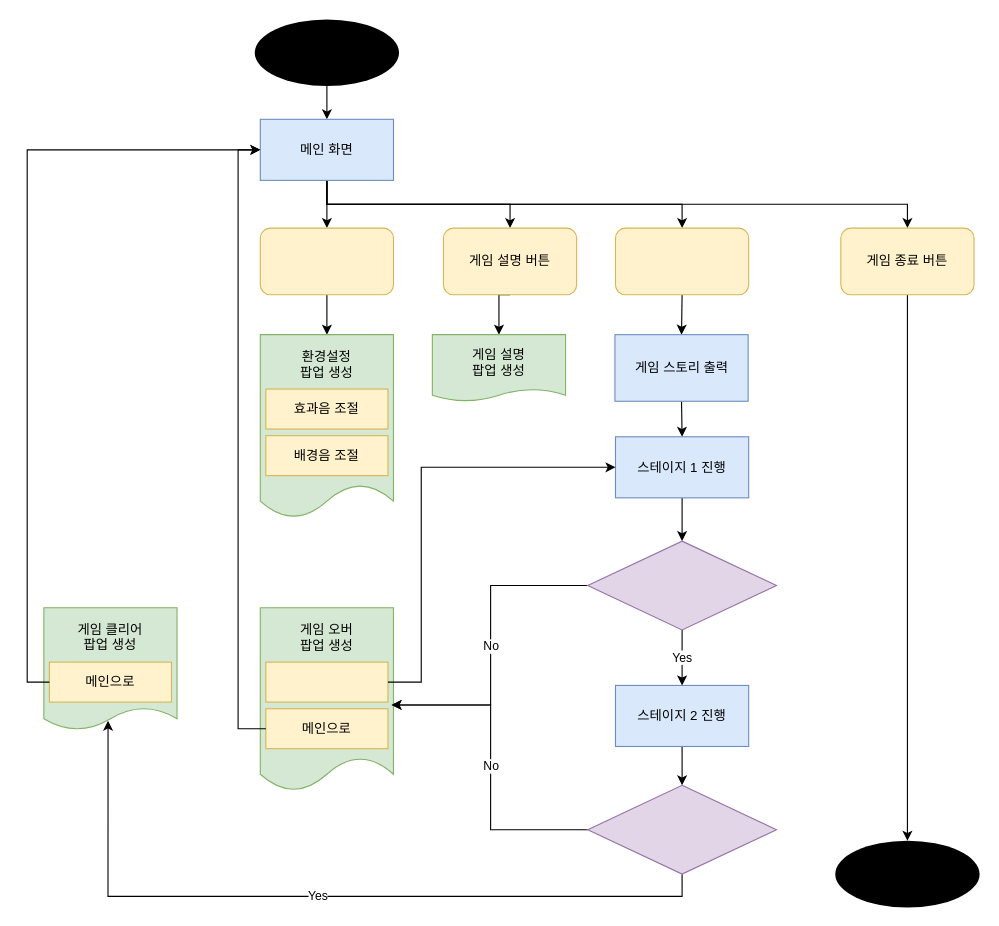
The diagram is 999 pixels wide and 926 high, and some of its shapes have lost their labels. The centre of each missing label's shape, as x and y in pixels:
"1분 안에 보스를 처치하였는가?" goes at point (681, 585).
"게임 시작" goes at point (326, 52).
"게임 시작 버튼" goes at point (681, 261).
"게임 종료" goes at point (907, 873).
"다시하기" goes at point (326, 681).
"목숨이 1개 이상인 상태로 보스를 처치하였는가?" goes at point (681, 829).
"환경설정 버튼" goes at point (326, 261).
